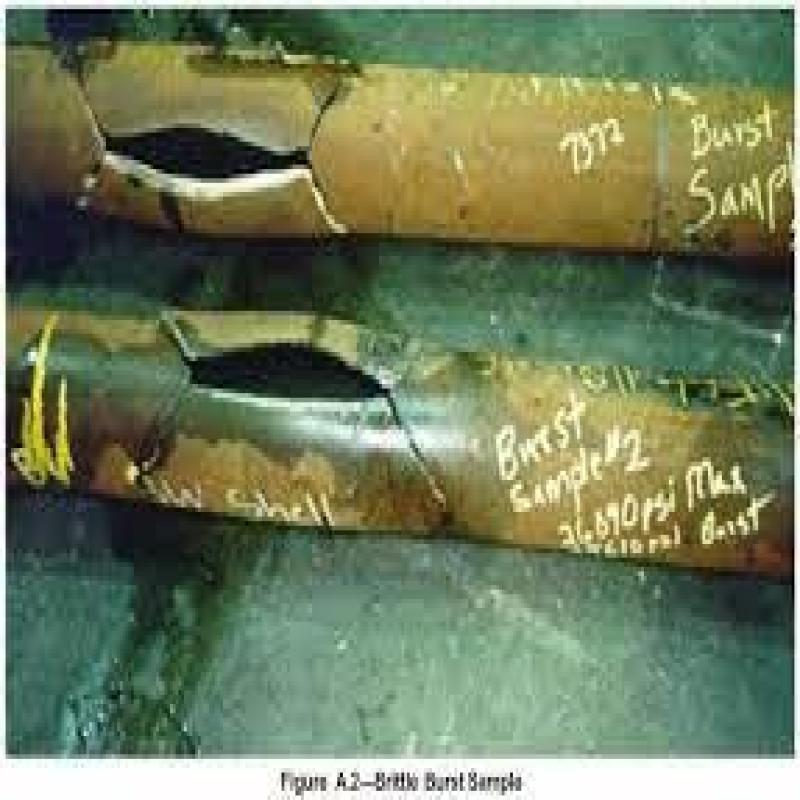Fracture: (150, 314, 451, 528), (66, 48, 364, 234)
